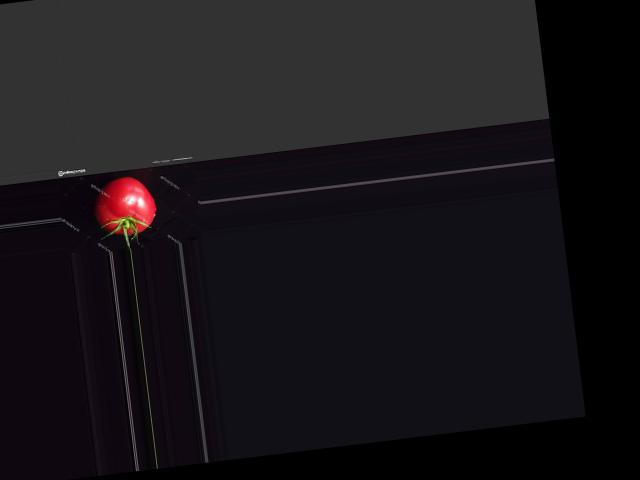tomato: (91, 173, 159, 238)
